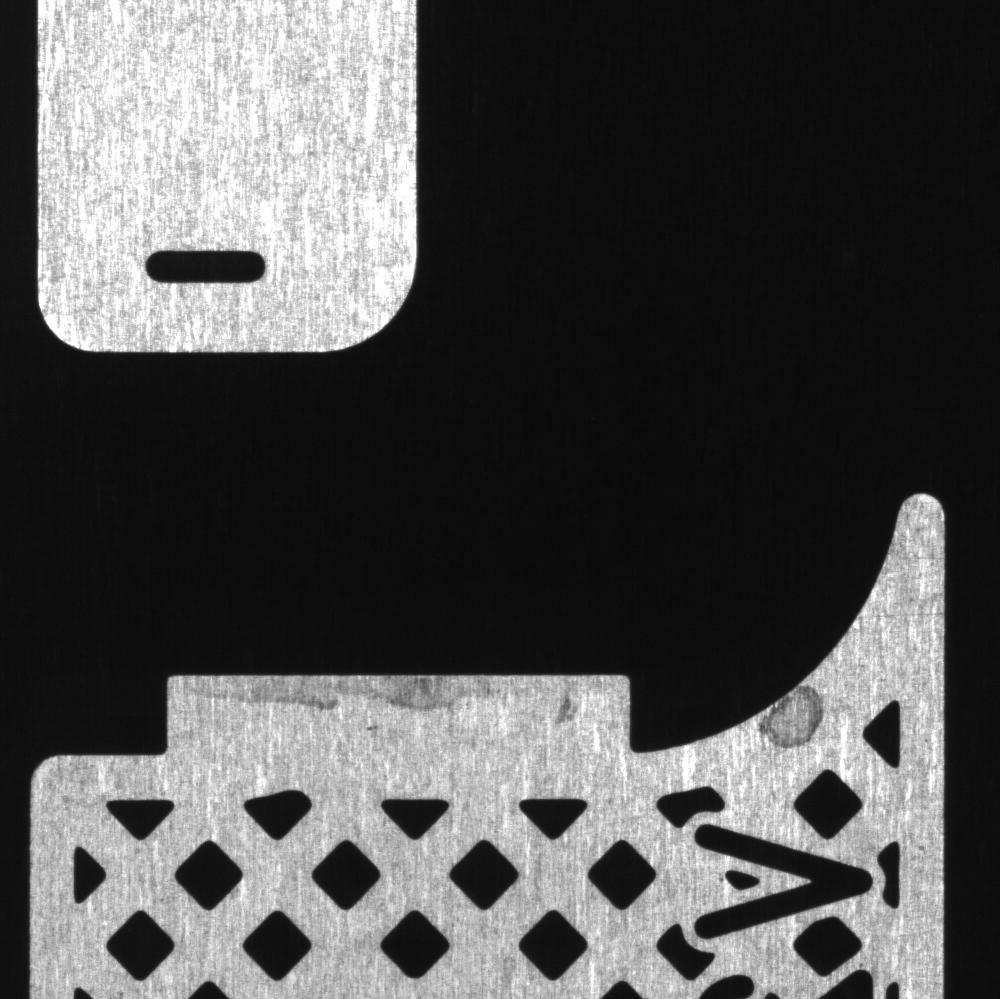Discolor: (175, 674, 620, 729), (753, 685, 827, 752)
